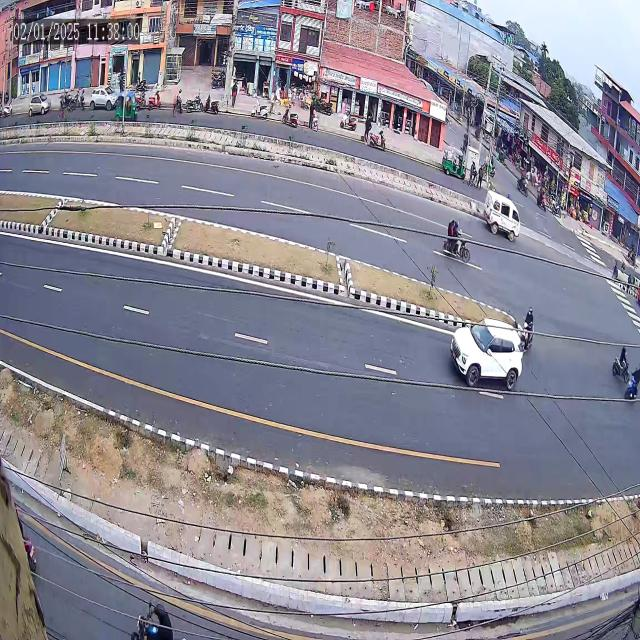car: (438, 303, 524, 400)
motorcycle: (434, 212, 470, 264), (601, 330, 631, 388), (520, 300, 544, 350)
van: (470, 187, 525, 250)
